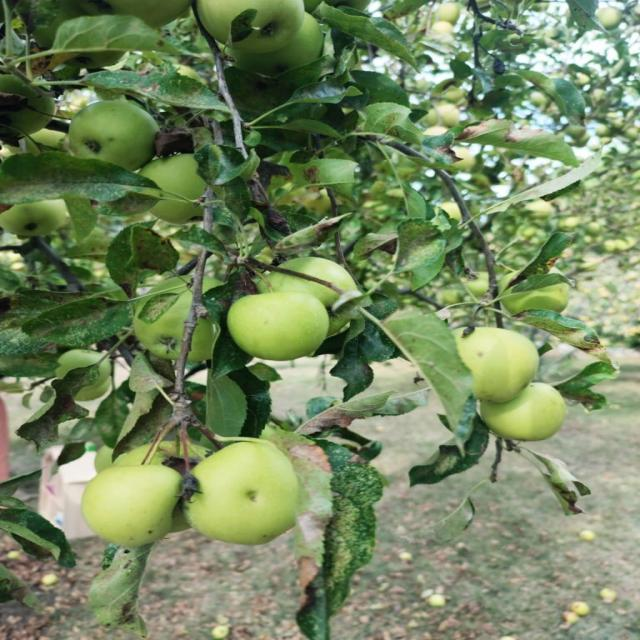Green Apple: (193, 450, 304, 546), (109, 437, 211, 529), (261, 256, 367, 328), (79, 469, 183, 542), (448, 329, 546, 402), (72, 99, 162, 172), (230, 292, 327, 356), (137, 286, 222, 354), (141, 152, 223, 219), (243, 12, 329, 72), (201, 1, 309, 47), (492, 383, 571, 441), (495, 267, 573, 311), (1, 190, 64, 235), (61, 350, 113, 390)
